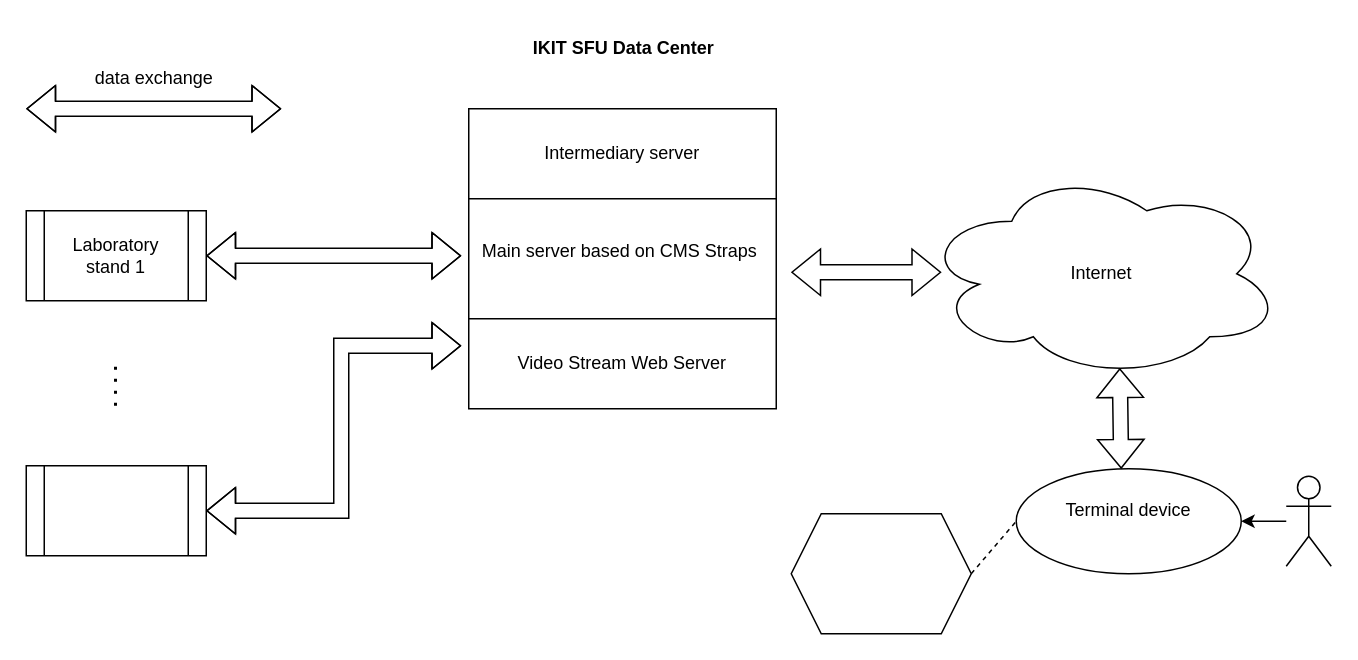
The diagram is 1358 pixels wide and 660 high, and some of its shapes have lost their labels. Each missing label, with the centre of its shape:
"Angular SPA" goes at point 880,573.
"Laboratory stand N" goes at point 115,510.
"User" goes at point 1308,520.
